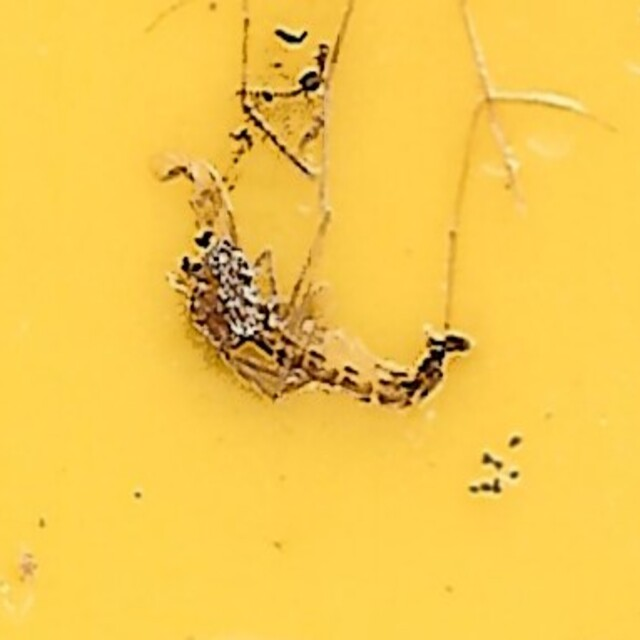Nematocera: (167, 211, 473, 429)
